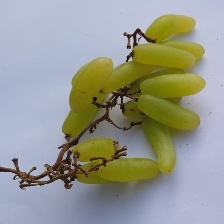grapes: (22, 38, 217, 211)
